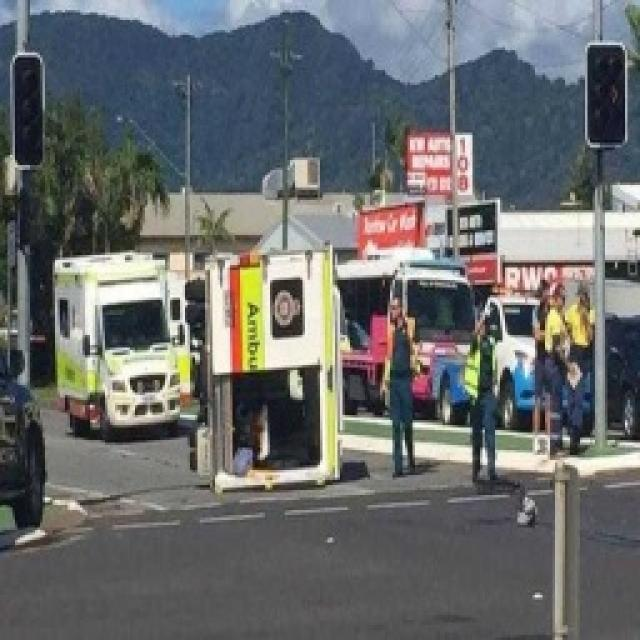ambulance: (190, 248, 342, 489), (53, 253, 179, 439)
